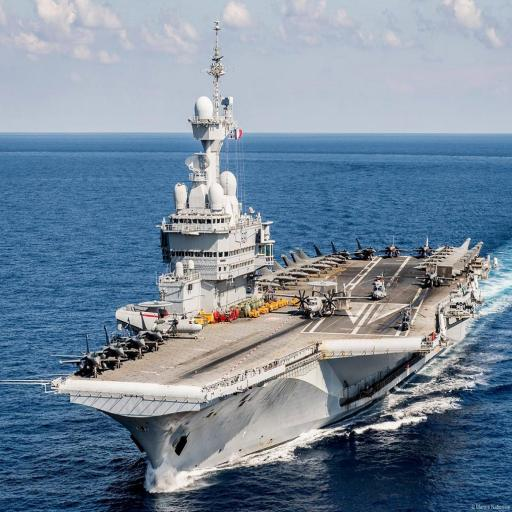Portanaves: (47, 17, 503, 489)
